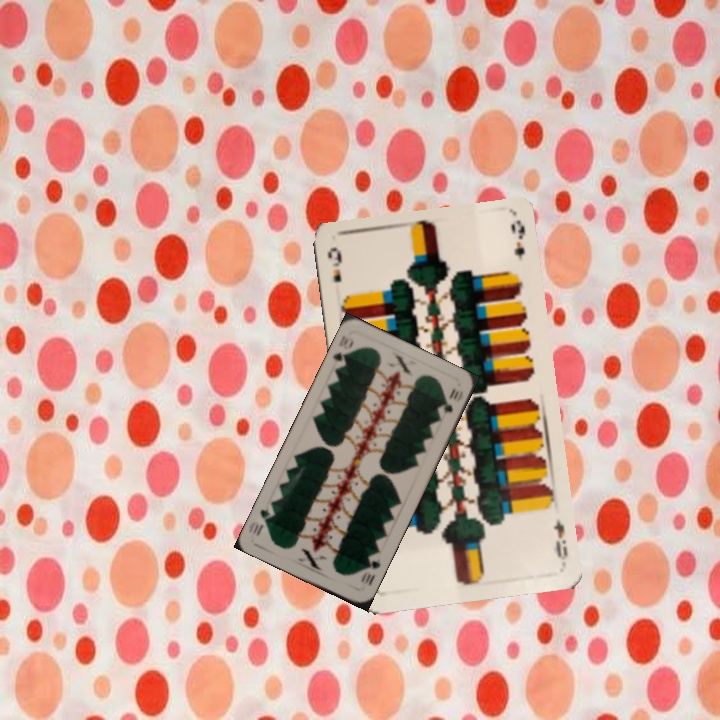E9: (549, 515, 570, 566), (323, 243, 345, 285)
G10: (328, 331, 356, 371), (357, 551, 383, 588)
